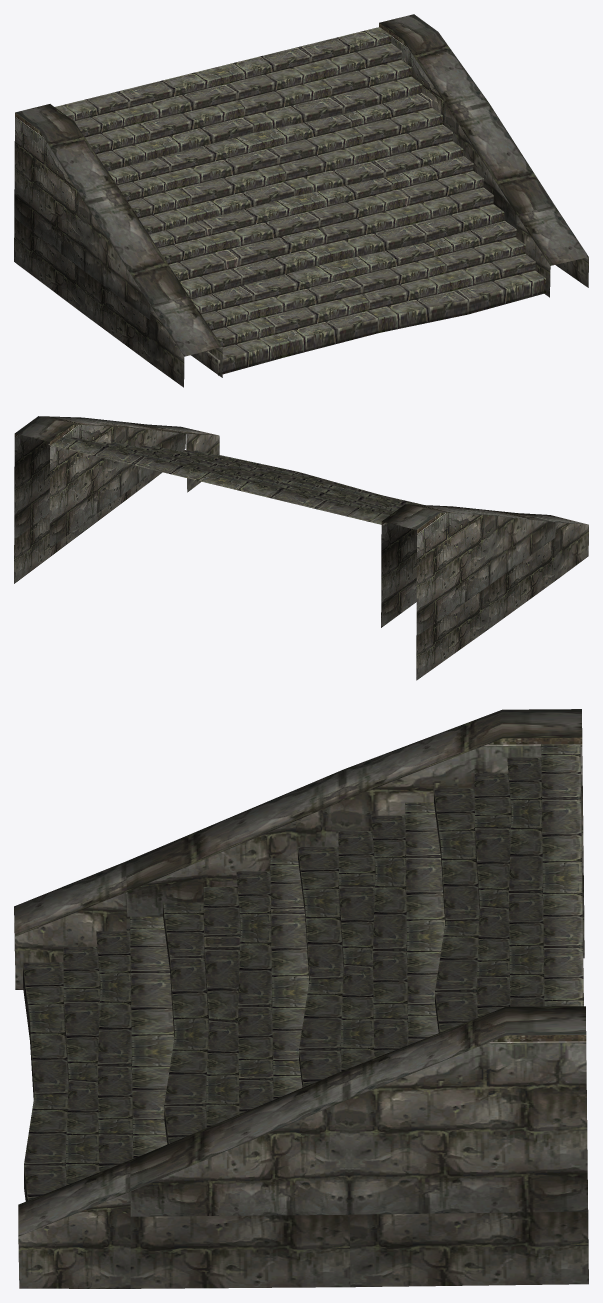
File: S_Build_Muxue049.FBX
3 renders of one model, top to bottom at view 1: azimuth 30°, elevation 25°; view 2: azimuth 150°, elevation 25°; view 3: azimuth 270°, elevation 25°, orthographic. The views are drawn at different scales.
Visible parts, largest first — view 1: S_Build_Muxue049; view 2: S_Build_Muxue049; view 3: S_Build_Muxue049.
Boxes of the visible parts, left/top/right/bottom form: S_Build_Muxue049: left=14, top=14, right=588, bottom=387; S_Build_Muxue049: left=14, top=416, right=588, bottom=680; S_Build_Muxue049: left=14, top=709, right=588, bottom=1288.
Size of the model in its own units: 1172 by 862 by 416.
